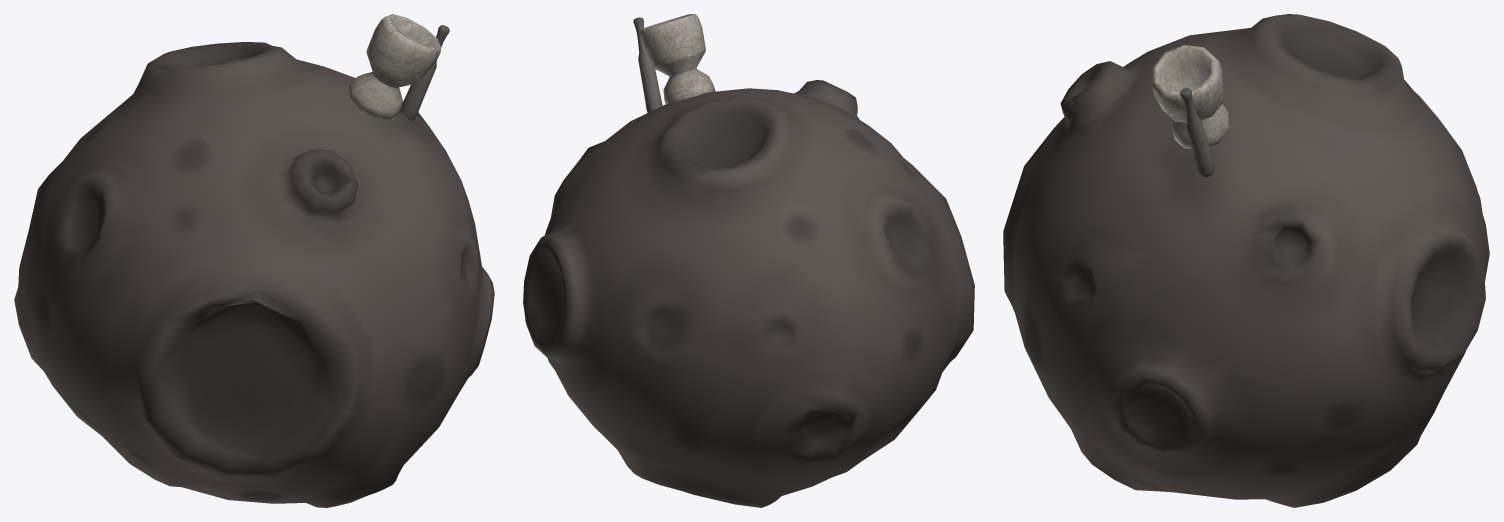
File: Moon.obj
3 views of the same model, side by side, from view 1: azimuth 30°, elevation 25°; view 2: azimuth 150°, elevation 25°; view 3: azimuth 270°, elevation 25° (orthographic). The views are drawn at different scales.
Visible parts, largest first — view 1: moon_high1; view 2: moon_high1; view 3: moon_high1.
Boxes of the visible parts, x1,y1,x2,y2 form: moon_high1: (14,14,494,507); moon_high1: (523,14,974,507); moon_high1: (1003,14,1489,507).
Size of the model in its own units: 128 by 144 by 128.
